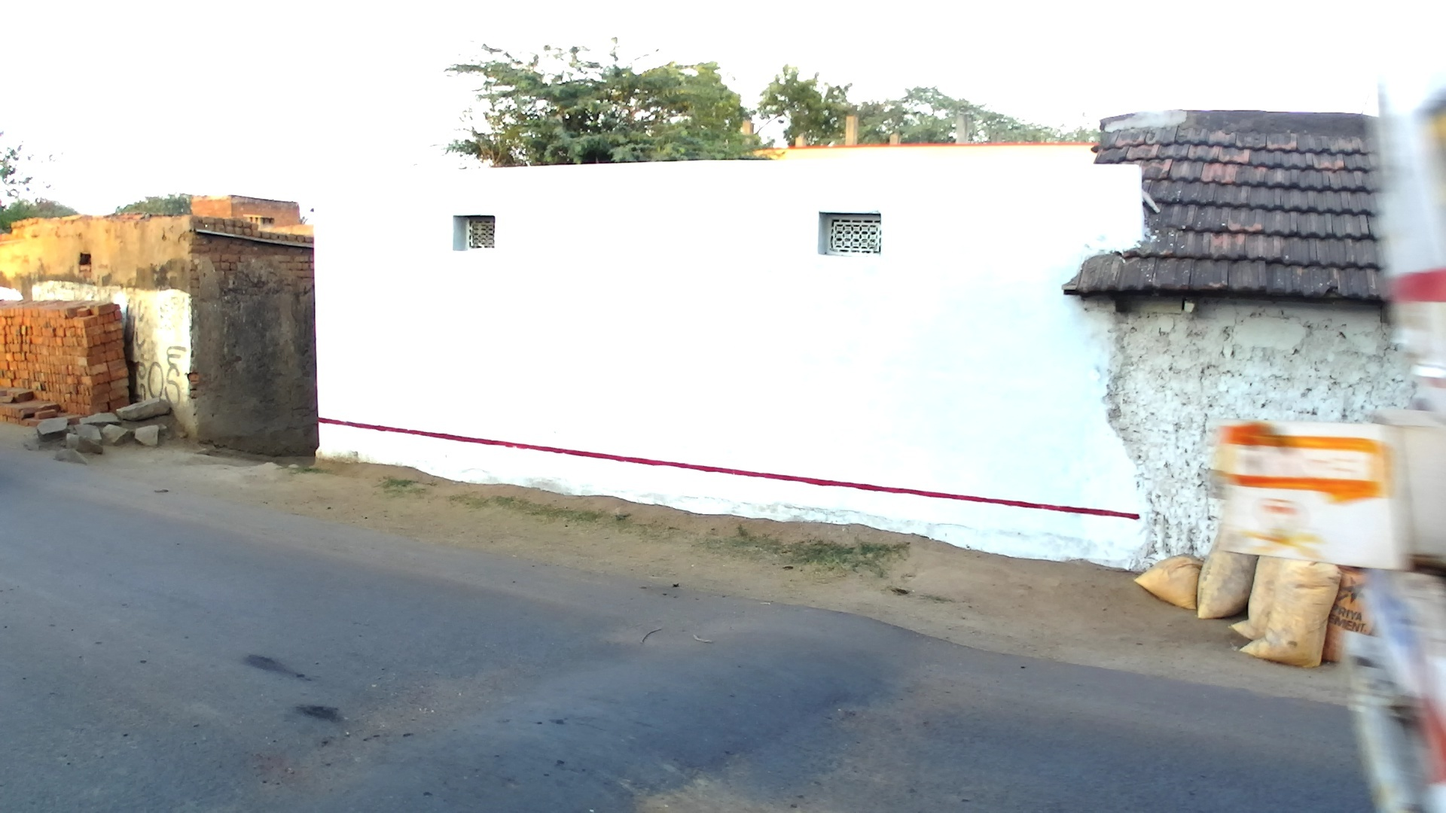vehicle fallback: (1219, 75, 1446, 813)
